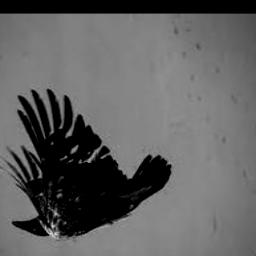Crow: (0, 89, 172, 239)
